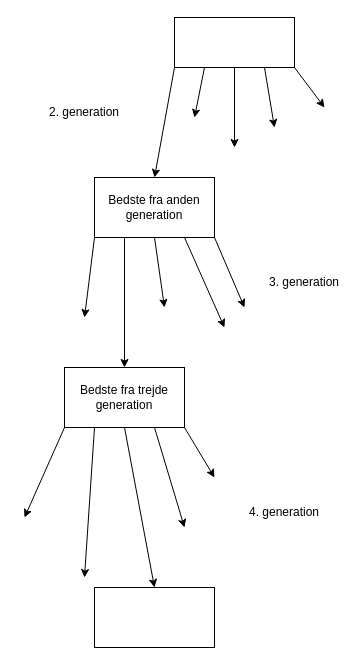
Some shapes in this 362 by 665 pixel diagram are drawn without their labels. The centre of each missing label's shape, as x and y in pixels:
Bedste fra 4. generation: the point at 154,617
Udgangspunkt: the point at 234,42
